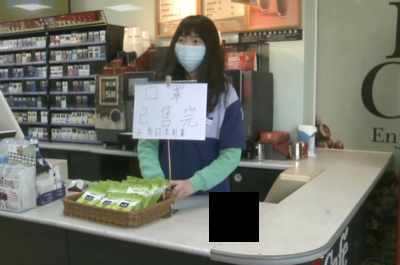with_mask: (173, 33, 206, 71)
